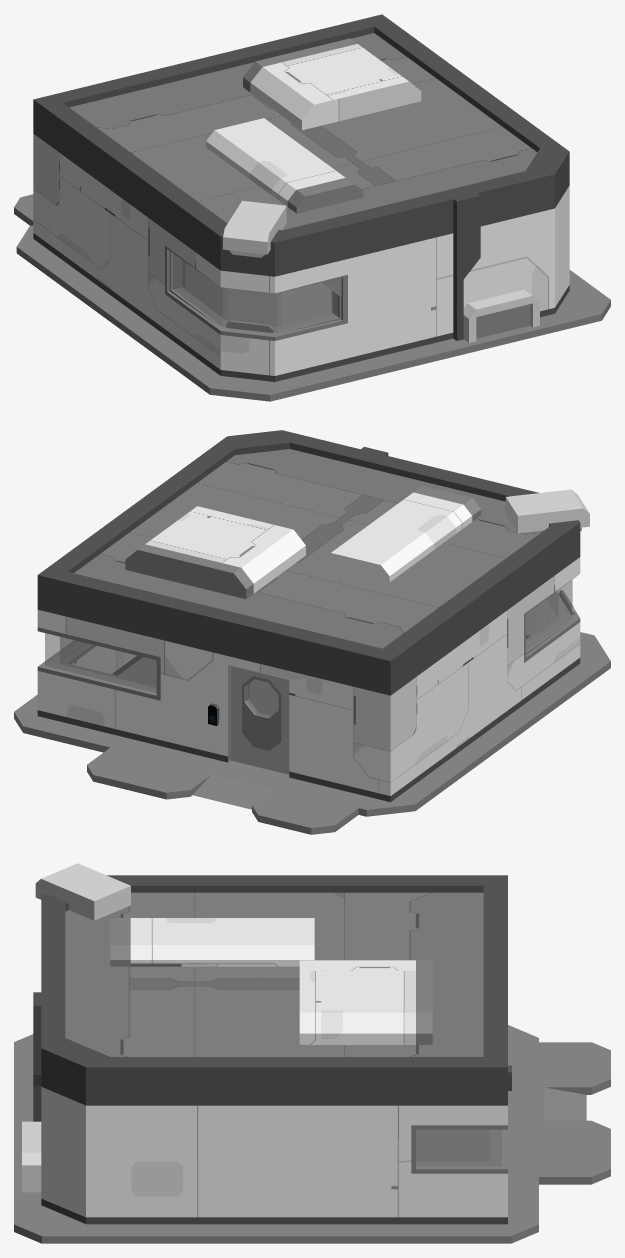
Rendered from SM_Building_2.fbx.
3 views of the same model, one above another, from view 1: azimuth 30°, elevation 25°; view 2: azimuth 150°, elevation 25°; view 3: azimuth 270°, elevation 25° (orthographic). The views are drawn at different scales.
Visible parts, largest first — view 1: SM_Building_2, SM_Building_2_Roof, SM_Building_2_Floor, SM_Building_2_Roof_Extras; view 2: SM_Building_2, SM_Building_2_Roof, SM_Building_2_Floor, SM_Building_2_Roof_Extras, SM_Building_2_Door; view 3: SM_Building_2, SM_Building_2_Roof, SM_Building_2_Floor, SM_Building_2_Roof_Extras.
Part boxes in pixels (x1,y1,x2,y2): SM_Building_2: [33, 14, 569, 381]; SM_Building_2_Roof: [69, 33, 537, 257]; SM_Building_2_Floor: [14, 194, 610, 401]; SM_Building_2_Roof_Extras: [206, 38, 421, 213]; SM_Building_2: [37, 430, 580, 802]; SM_Building_2_Roof: [74, 449, 589, 648]; SM_Building_2_Floor: [14, 632, 610, 834]; SM_Building_2_Roof_Extras: [125, 485, 481, 598]; SM_Building_2_Door: [231, 666, 289, 774]; SM_Building_2: [22, 875, 511, 1224]; SM_Building_2_Roof: [35, 863, 483, 1056]; SM_Building_2_Floor: [14, 1025, 610, 1243]; SM_Building_2_Roof_Extras: [110, 918, 432, 1044].
Size of the model in its own units: 841 by 334 by 987.
